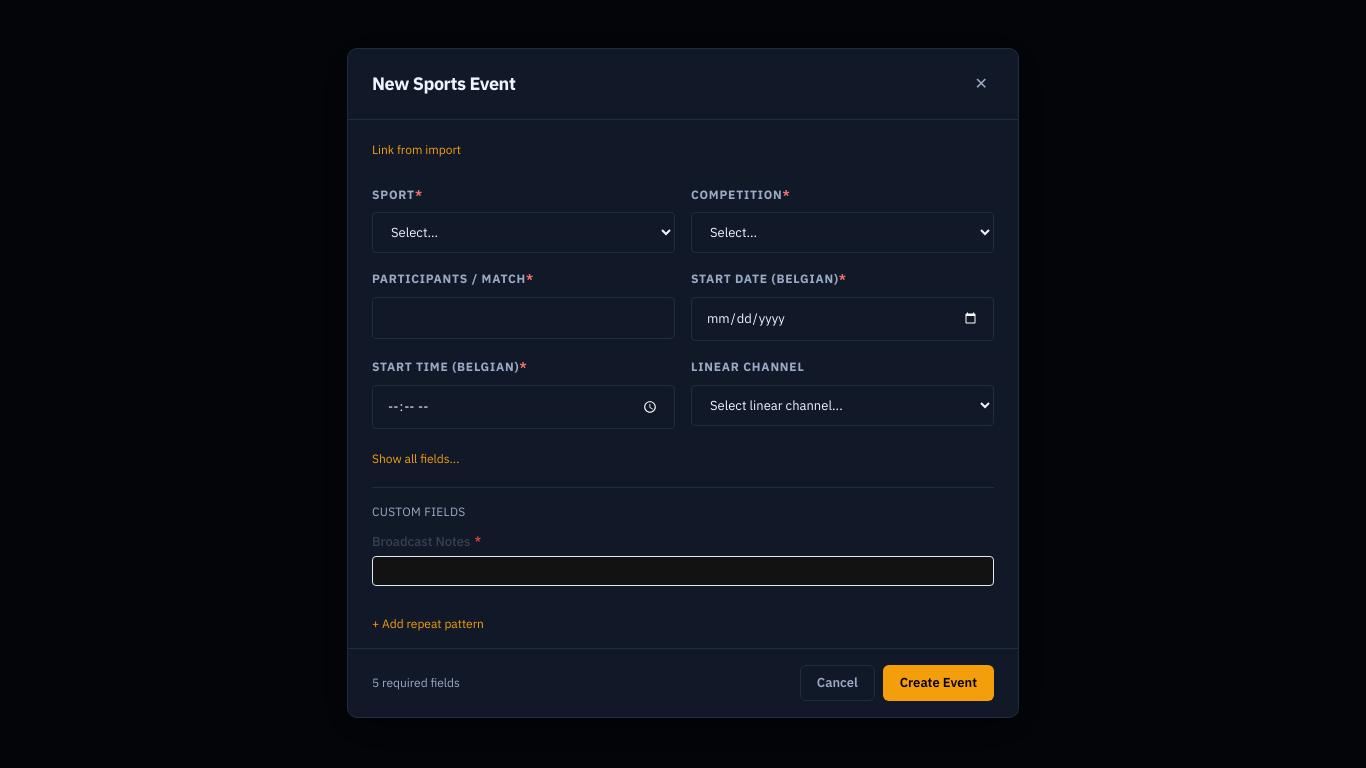
Test: DynamicEventForm — API custom-field validation › required API custom field blocks save, but only AFTER the conflict check ran (PINNED order)
Expected: the text "Broadcast Notes" is shown, [372,533,470,550]
Select "⚽ Football" in the 1st dropdown named "⚽ Football": (524, 233) [372,212,675,253]
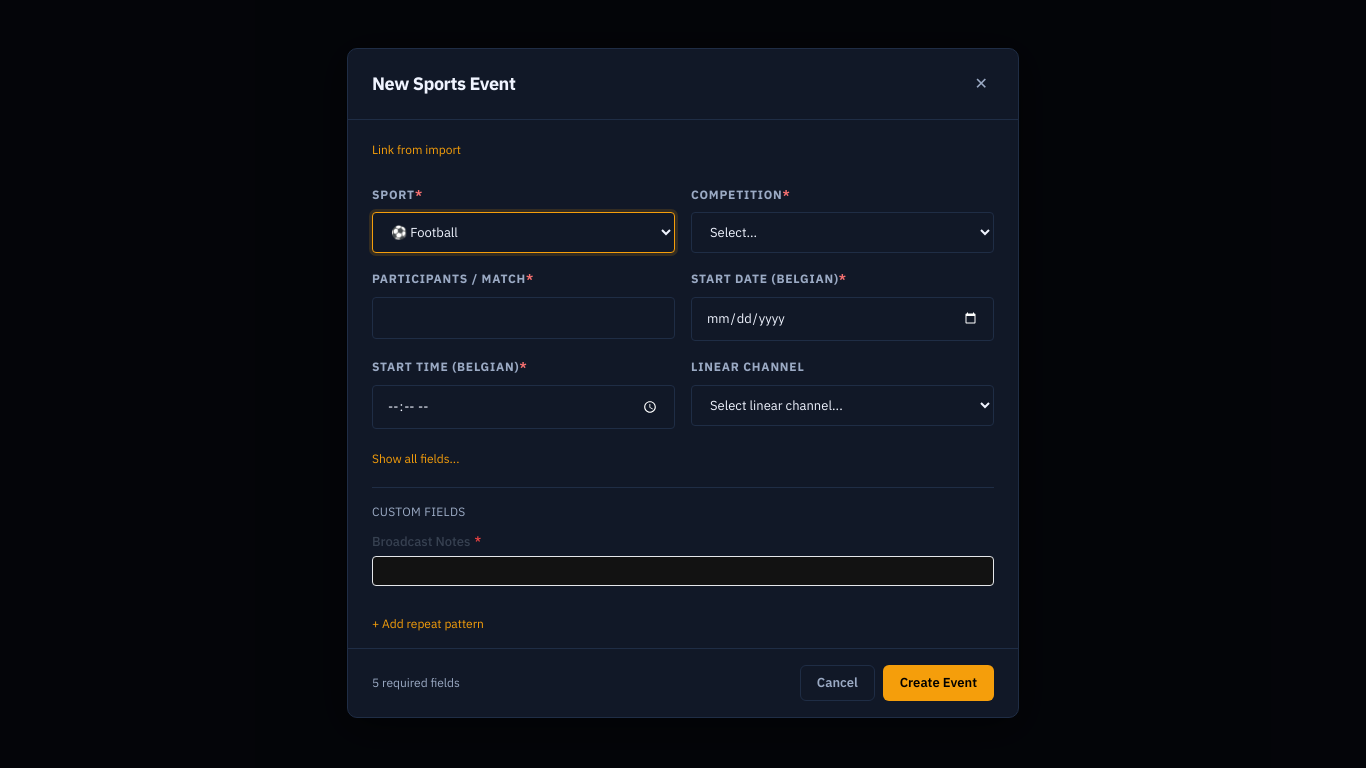
Select "Jupiler Pro League" in the dropdown named "Jupiler Pro League" below "Competition": (842, 233) [691,212,994,253]
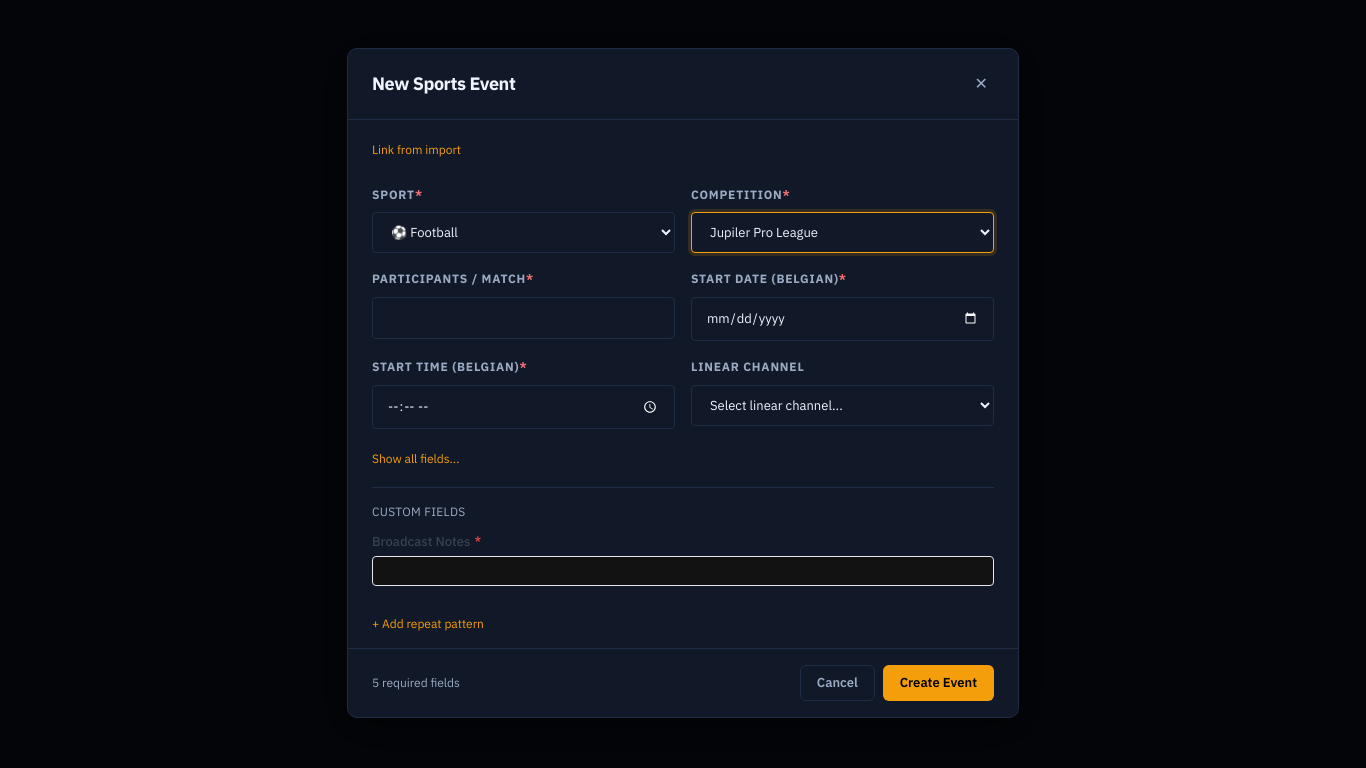
In the field below "Participants / Match": (524, 318) [372,297,675,339], type "Team A vs Team B"
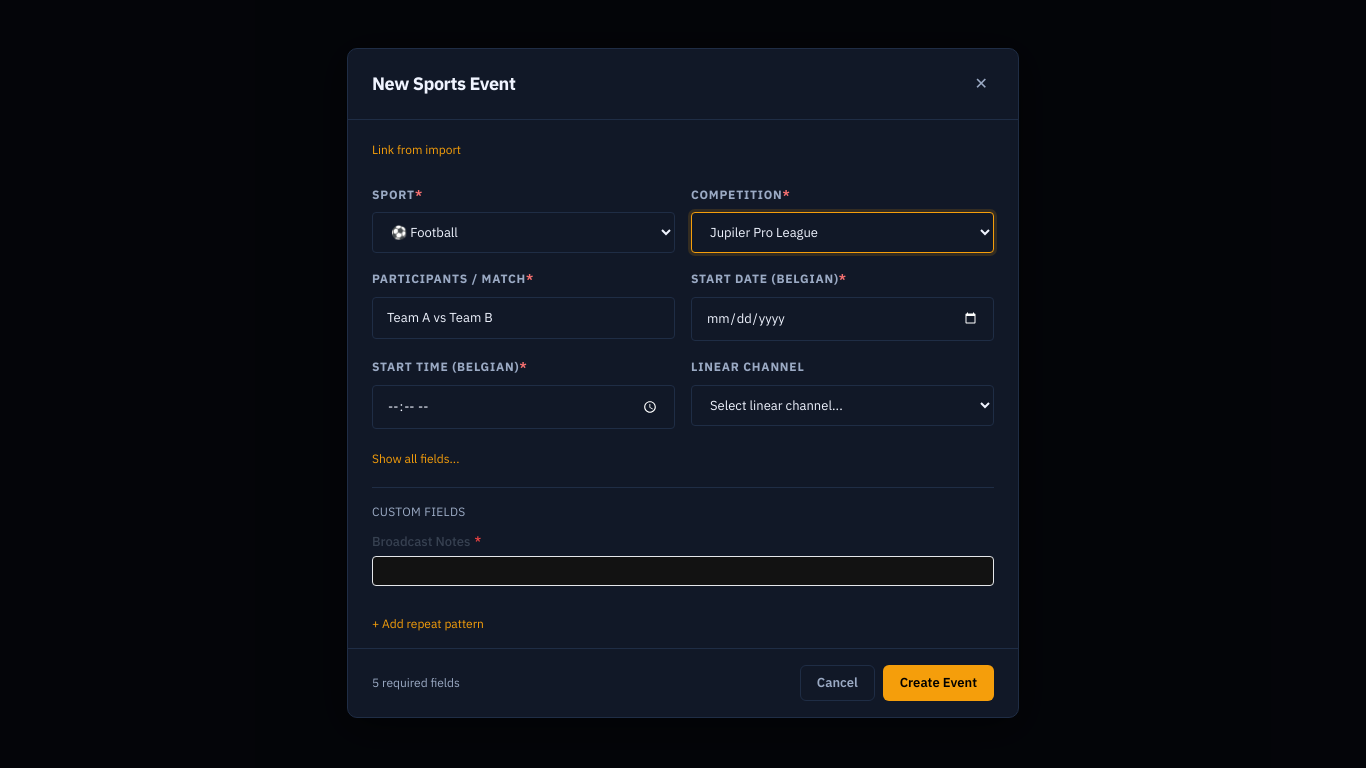
In the date field: (842, 319) [691,297,994,341], type "2026-06-20"
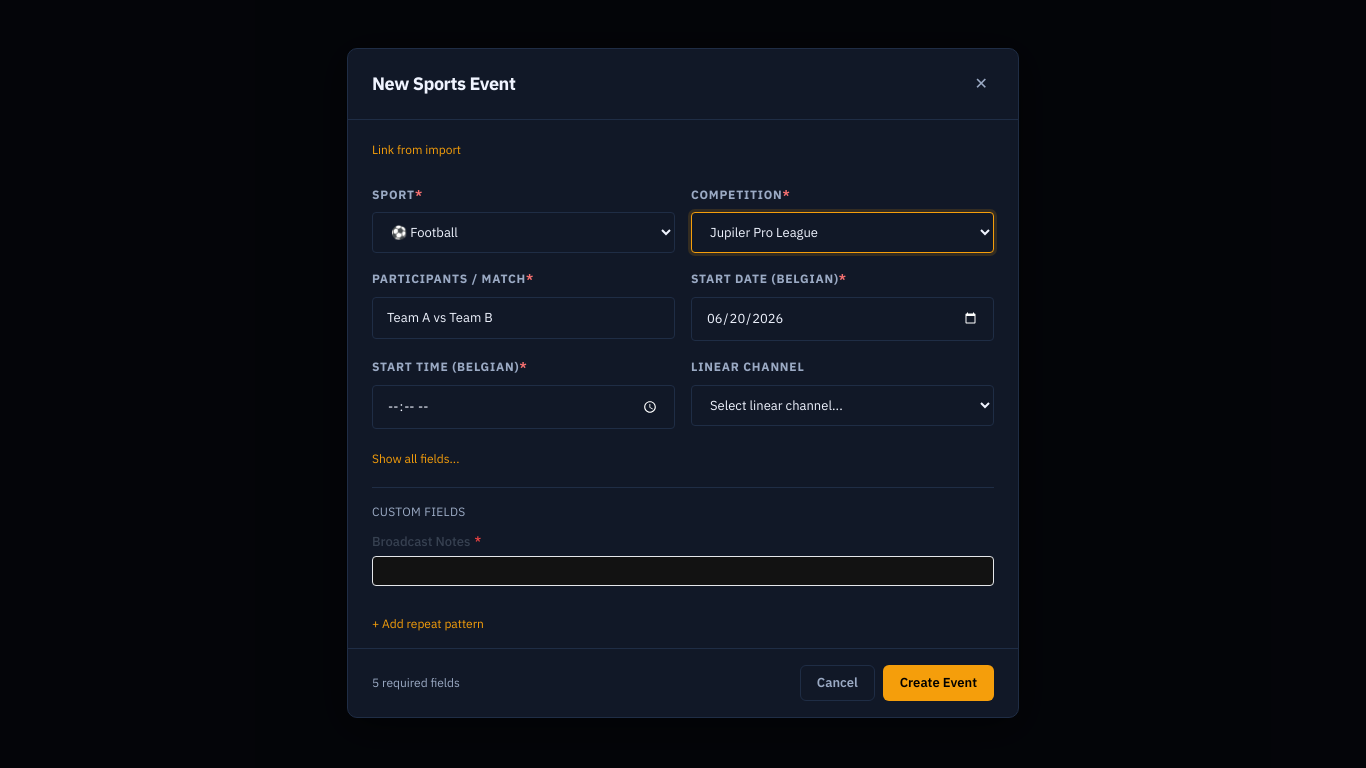
In the time field: (524, 407) [372,384,675,429], type "18:00"
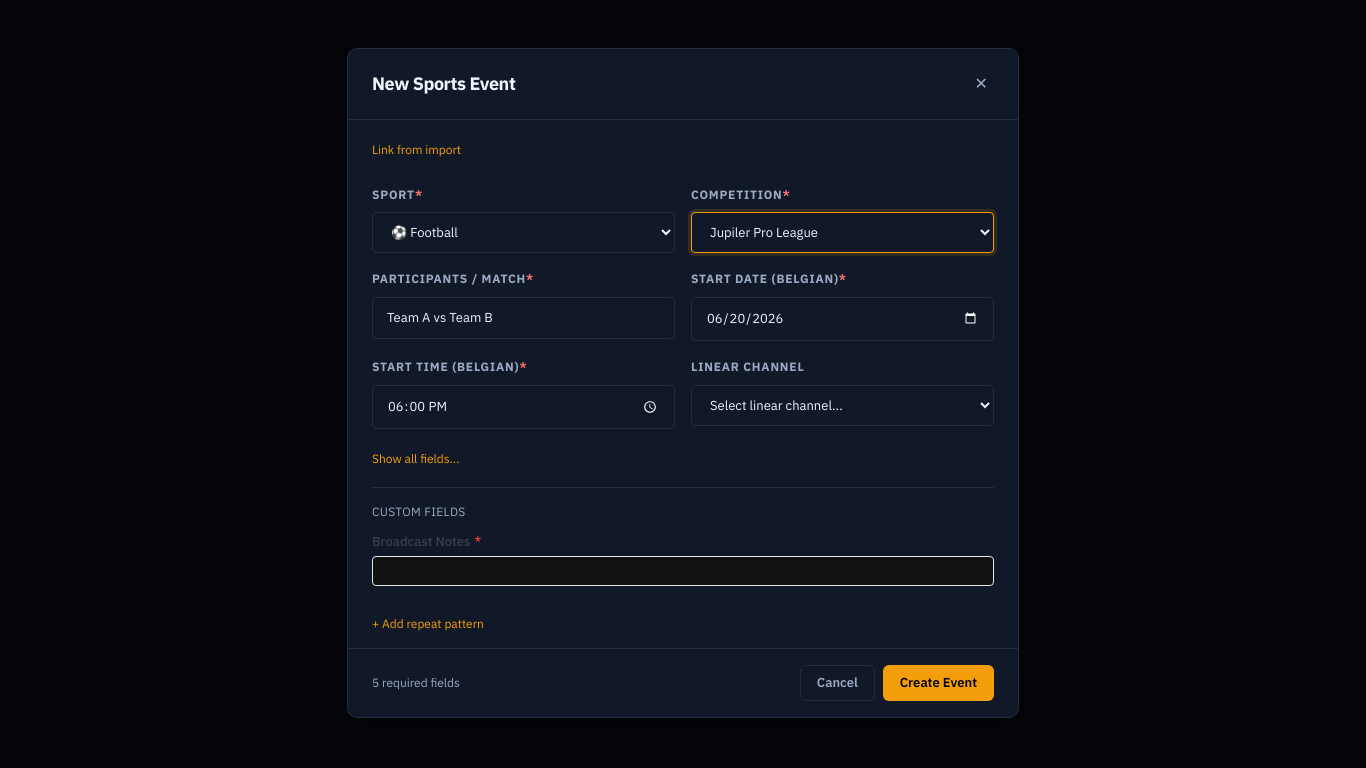
Click the button "Create Event": (938, 683) [883,665,994,701]
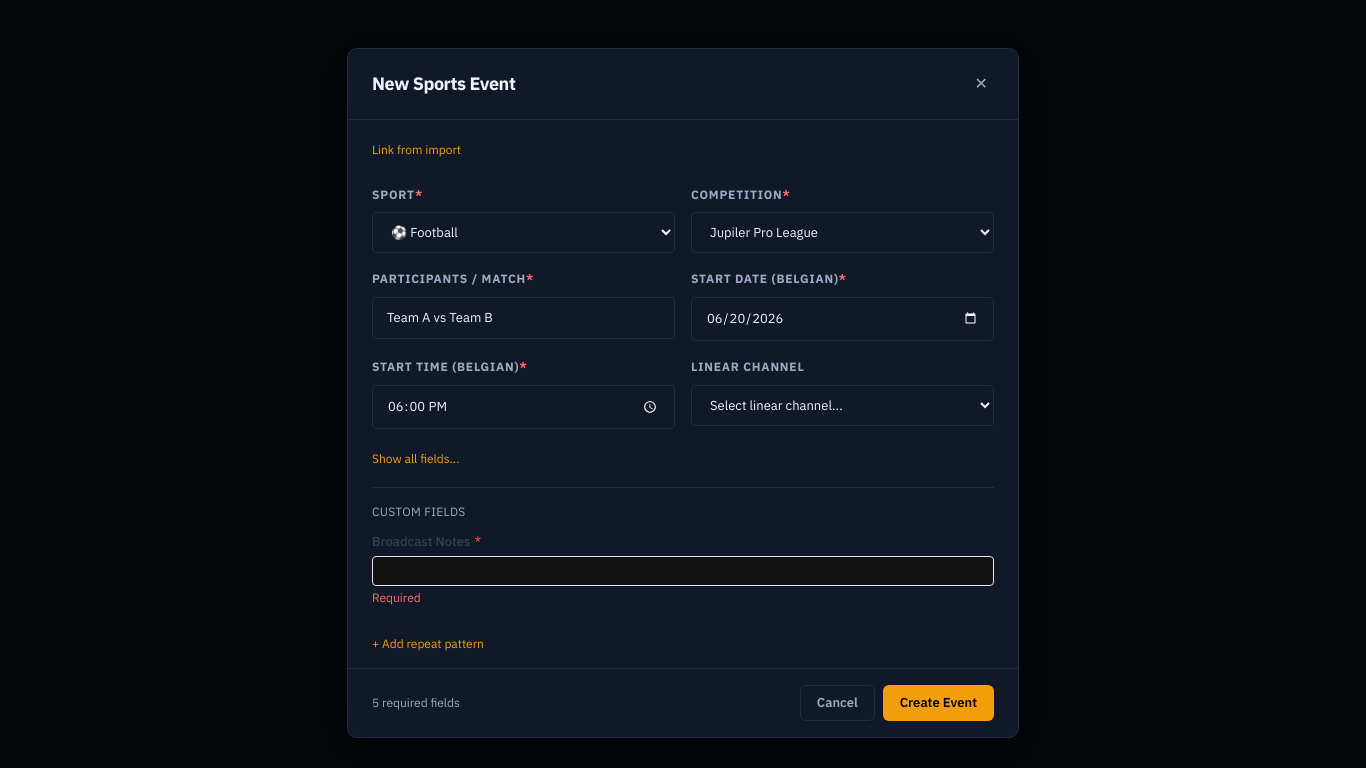
Expected: the text "Required" is shown, [372,590,421,605]
